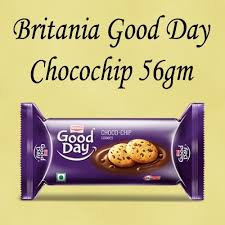gooday-small-choco: (18, 102, 208, 205)
